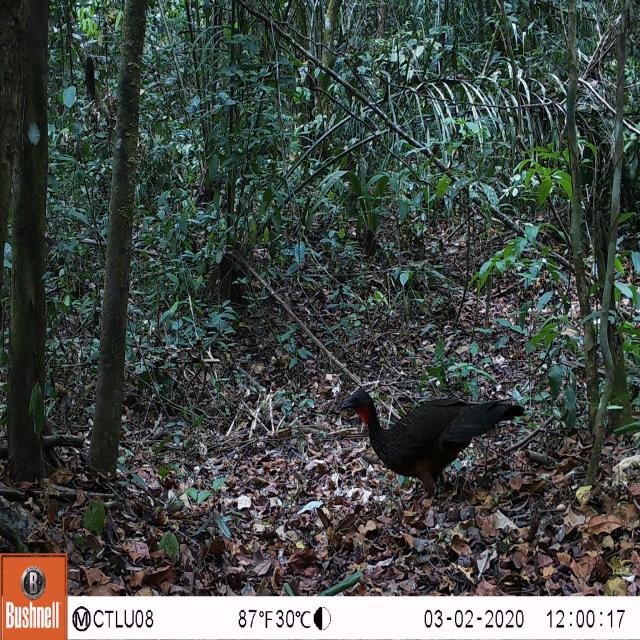Spixs Guan: (334, 377, 533, 508)
